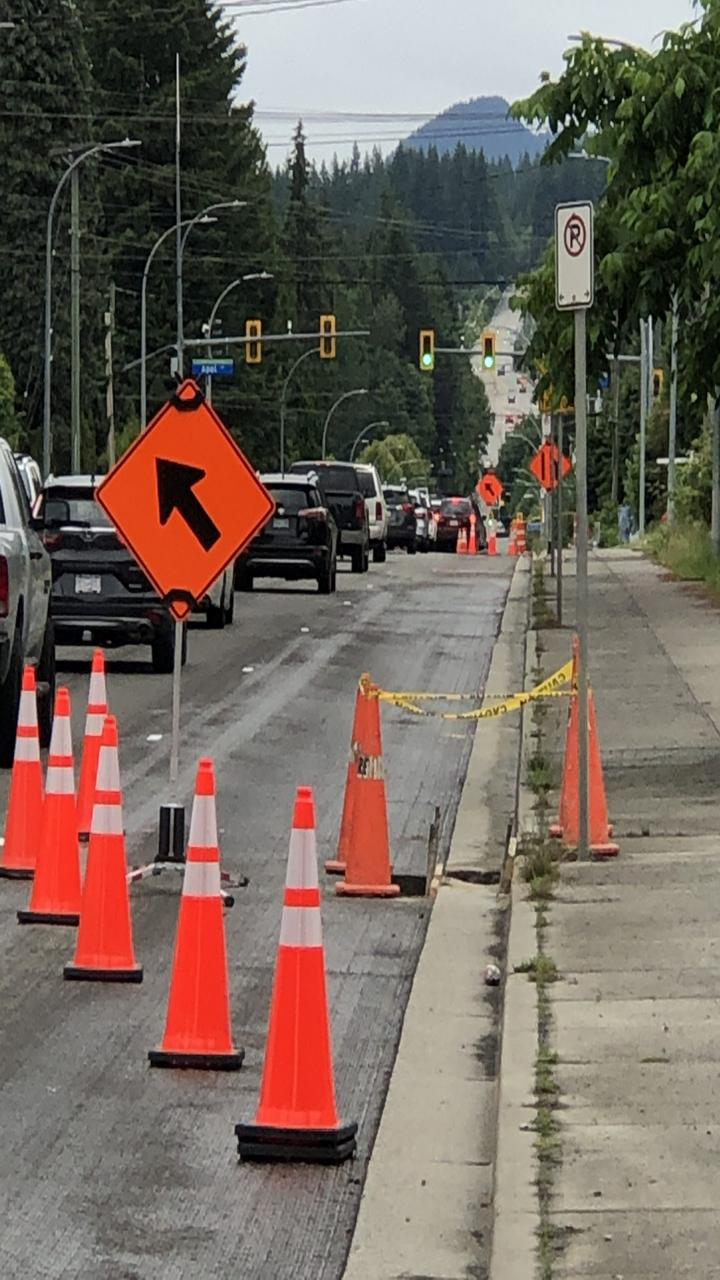Traffic sign: (94, 371, 286, 637), (523, 177, 634, 317)
vehicle: (22, 463, 202, 673), (235, 472, 368, 599)
